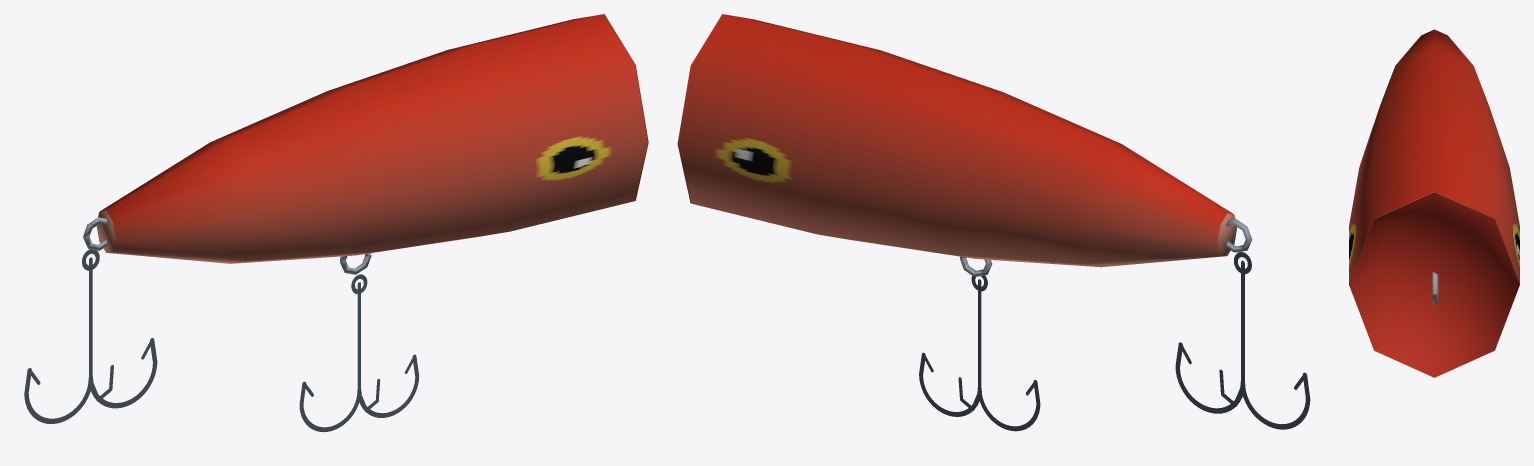
Rendered from popper.glb.
The picture shows the model from 3 angles, left to right: view 1: azimuth 30°, elevation 25°; view 2: azimuth 150°, elevation 25°; view 3: azimuth 270°, elevation 25°; orthographic projection. The views are drawn at different scales.
Visible parts, largest first — view 1: popper__Popper_open_body_MESH, popper__Treble_hook_ALPHA.004, popper__Treble_hook_ALPHA.005; view 2: popper__Popper_open_body_MESH, popper__Treble_hook_ALPHA.004, popper__Treble_hook_ALPHA.005; view 3: popper__Cupped_red_mouth_MESH, popper__Popper_open_body_MESH, popper__Attachment_eye_MESH.006.
Boxes of the visible parts, x1,y1,x2,y2 form: popper__Popper_open_body_MESH: (96, 14, 647, 263); popper__Treble_hook_ALPHA.004: (24, 249, 157, 423); popper__Treble_hook_ALPHA.005: (299, 274, 419, 432); popper__Popper_open_body_MESH: (678, 14, 1237, 267); popper__Treble_hook_ALPHA.004: (1175, 252, 1310, 429); popper__Treble_hook_ALPHA.005: (919, 275, 1040, 431); popper__Cupped_red_mouth_MESH: (1349, 192, 1519, 377); popper__Popper_open_body_MESH: (1349, 29, 1519, 284); popper__Attachment_eye_MESH.006: (1432, 272, 1438, 304).
Bounding box in the file's own units: 0.0801 × 0.0446 × 0.02.
4 materials, 2 textured.
